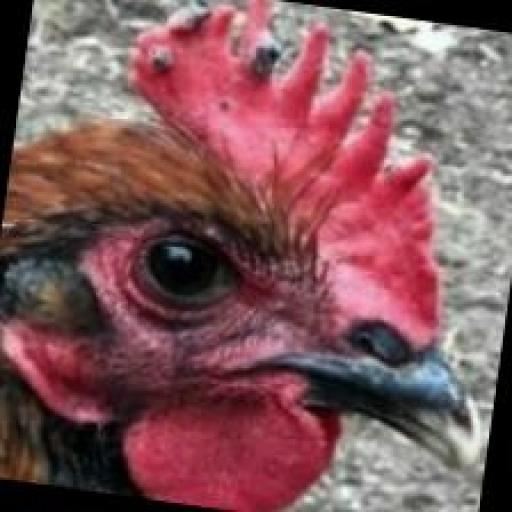disease: (135, 0, 329, 126)
